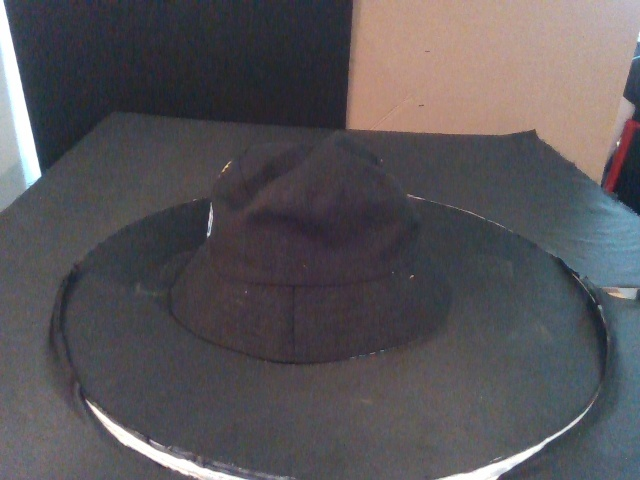hat: (165, 137, 451, 361)
